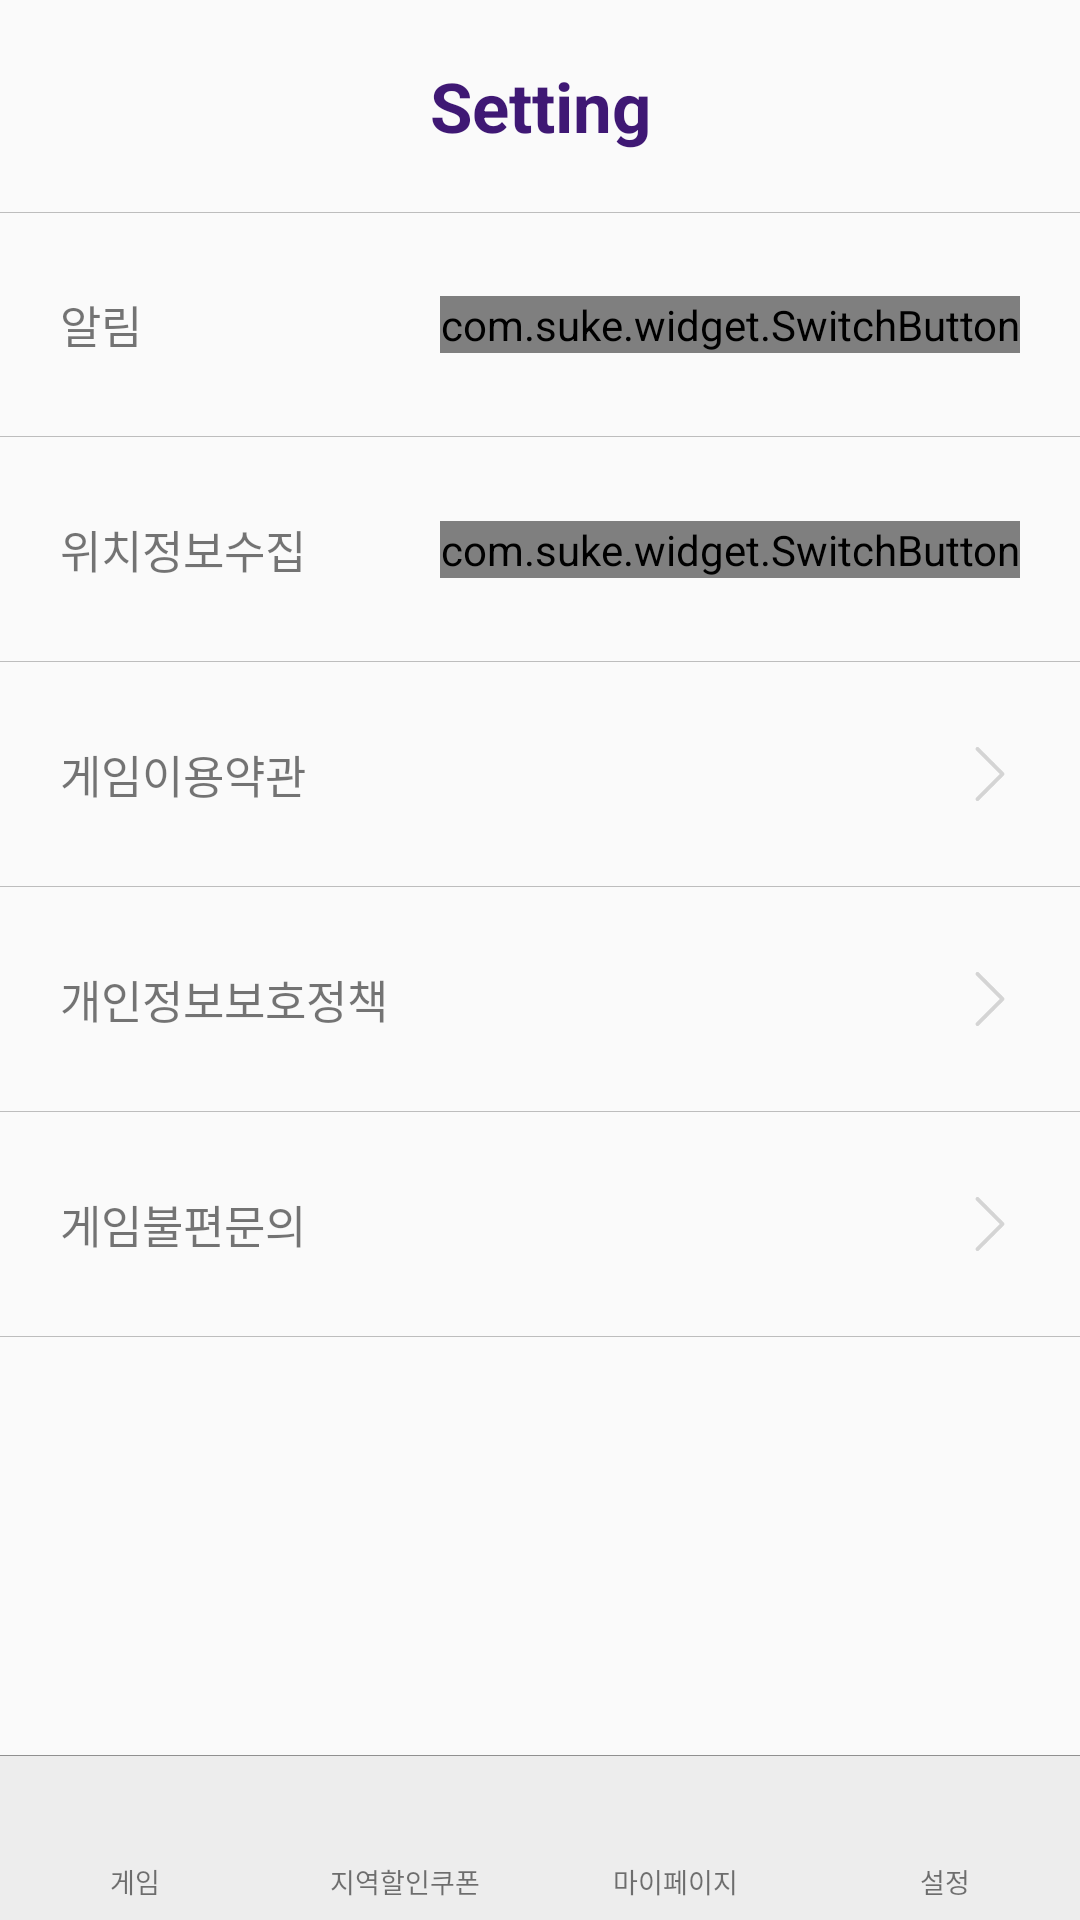

Icons on this 1080x1920 Android screen, each with the point to tap as (x=x, y=y):
rightarrow: (x=990, y=774), (x=990, y=999), (x=990, y=1224)
